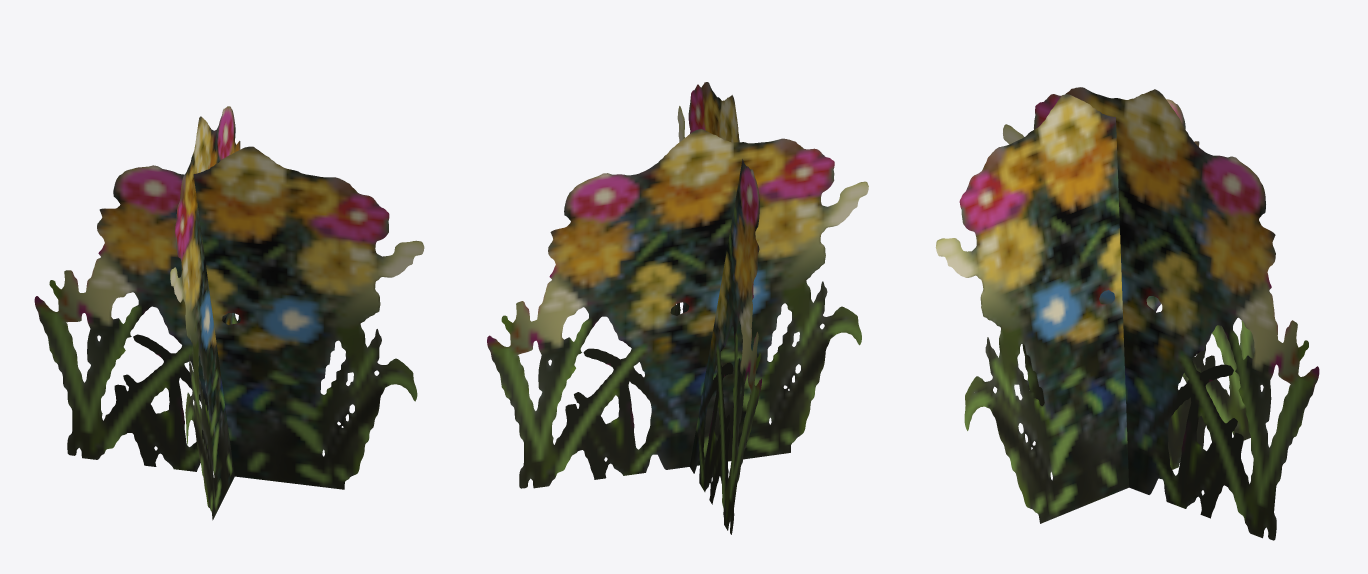
File: flower_01a.fbx
3 renders of one model, left to right at view 1: azimuth 30°, elevation 25°; view 2: azimuth 150°, elevation 25°; view 3: azimuth 270°, elevation 25°, orthographic. The views are drawn at different scales.
Visible parts, largest first — view 1: flower_01a; view 2: flower_01a; view 3: flower_01a.
Part boxes in pixels (x1,y1,x2,y2): flower_01a: [34, 106, 424, 520]; flower_01a: [487, 82, 868, 534]; flower_01a: [935, 87, 1319, 540].
Bounding box in the file's own units: 0.2933 × 0.3381 × 0.3485.
